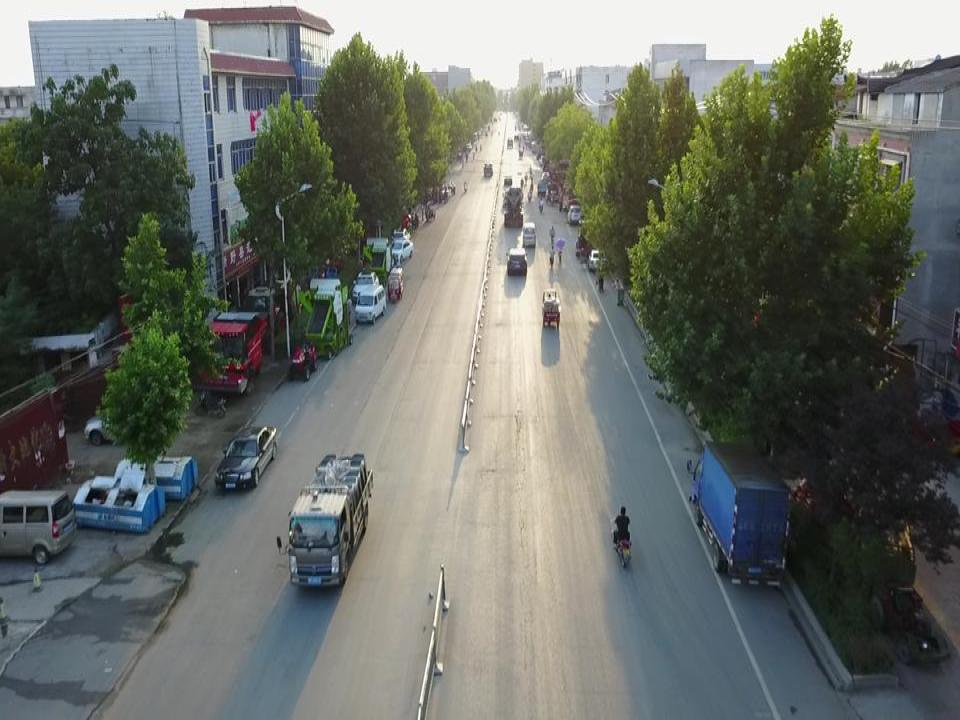car: (214, 427, 276, 489), (83, 408, 157, 444), (352, 272, 379, 300), (389, 240, 414, 264), (505, 248, 528, 273), (588, 249, 607, 271), (391, 228, 411, 244), (482, 161, 494, 176), (503, 175, 512, 185)
truck: (687, 440, 792, 588), (276, 451, 375, 588), (502, 187, 523, 228)
van: (0, 489, 77, 564), (355, 284, 386, 325), (522, 222, 536, 246), (567, 205, 581, 227), (507, 137, 512, 148)
